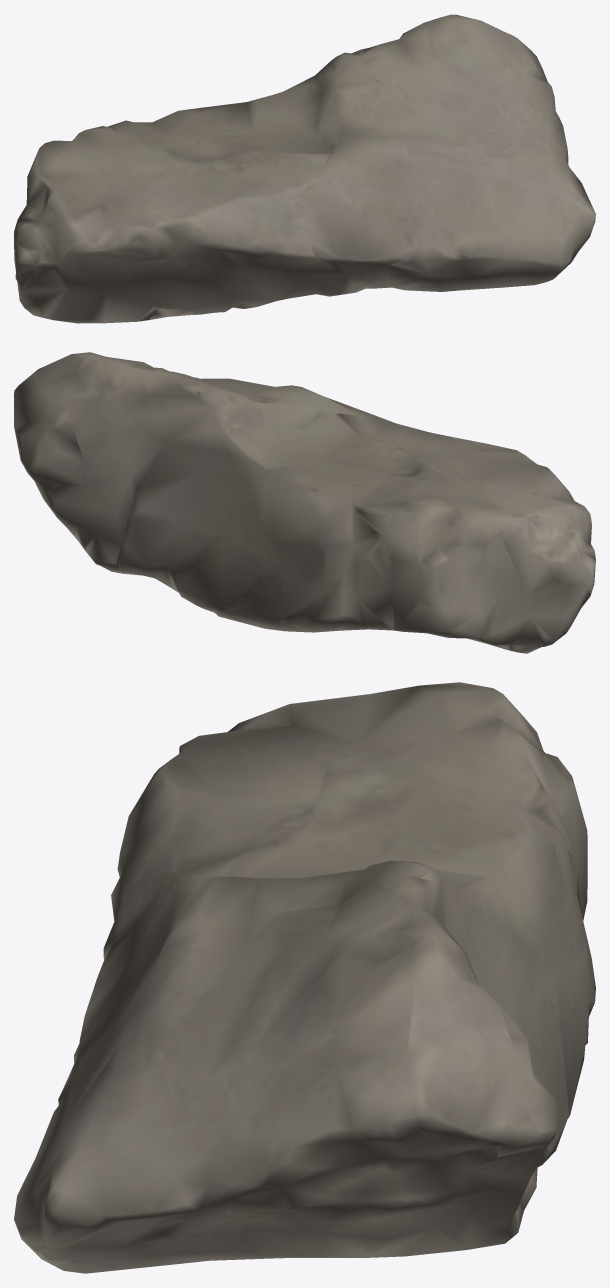
File: moon-rock-01.glb
The picture shows the model from 3 angles, top to bottom: view 1: azimuth 30°, elevation 25°; view 2: azimuth 150°, elevation 25°; view 3: azimuth 270°, elevation 25°; orthographic projection. The views are drawn at different scales.
Parts seen in each view (by area): view 1: moon_rock_01_LOD0; view 2: moon_rock_01_LOD0; view 3: moon_rock_01_LOD0.
Boxes of the visible parts, <box> form: moon_rock_01_LOD0: <box>14,14,595,323</box>; moon_rock_01_LOD0: <box>14,352,595,653</box>; moon_rock_01_LOD0: <box>14,682,595,1273</box>.
Size of what is drawn, in the model's own units: 1.69 by 0.598 by 0.8862.
1 material, 1 textured.
